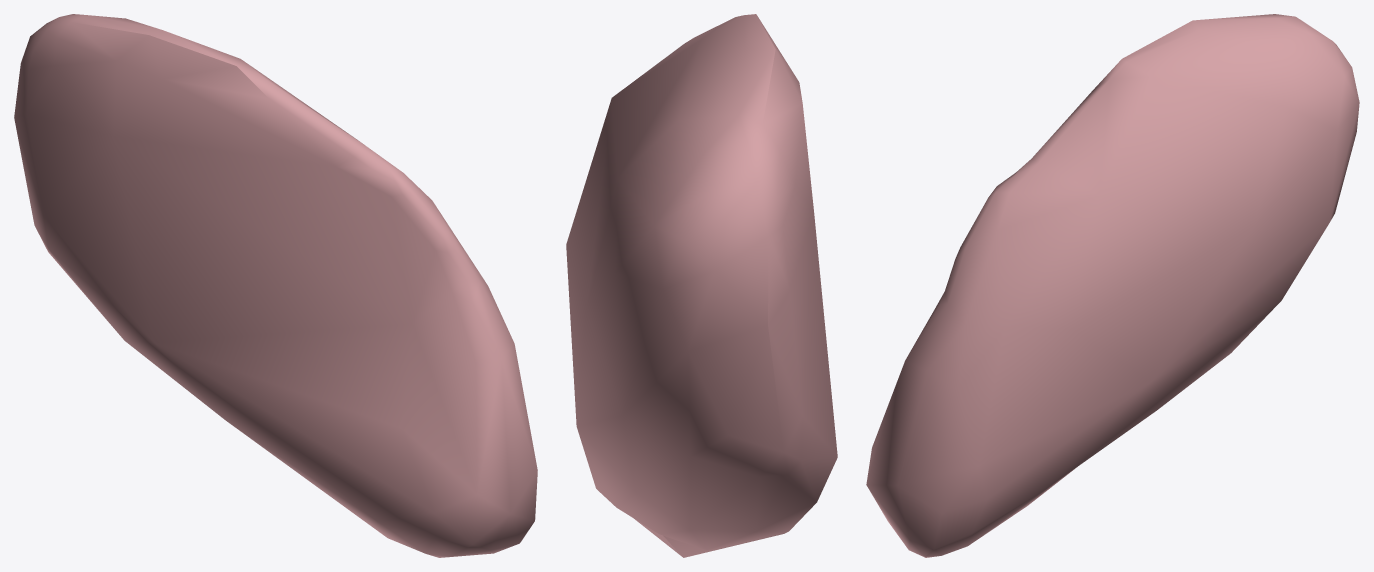
File: fma59802_fj2768.glb
3 views of the same model, side by side, from view 1: azimuth 30°, elevation 25°; view 2: azimuth 150°, elevation 25°; view 3: azimuth 270°, elevation 25° (orthographic). The views are drawn at different scales.
Visible parts, largest first — view 1: FMA59802_FJ2768; view 2: FMA59802_FJ2768; view 3: FMA59802_FJ2768.
Part boxes in pixels (bbox=[...]): FMA59802_FJ2768: bbox=[14, 14, 537, 557]; FMA59802_FJ2768: bbox=[566, 14, 837, 557]; FMA59802_FJ2768: bbox=[866, 14, 1359, 557].
Size of the model in its own units: 0.0159 by 0.0224 by 0.0227.
